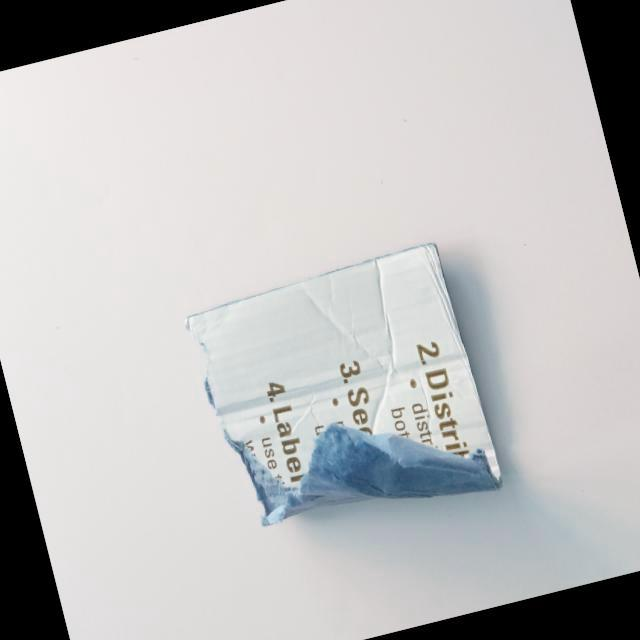cardboard: (136, 84, 608, 598)
